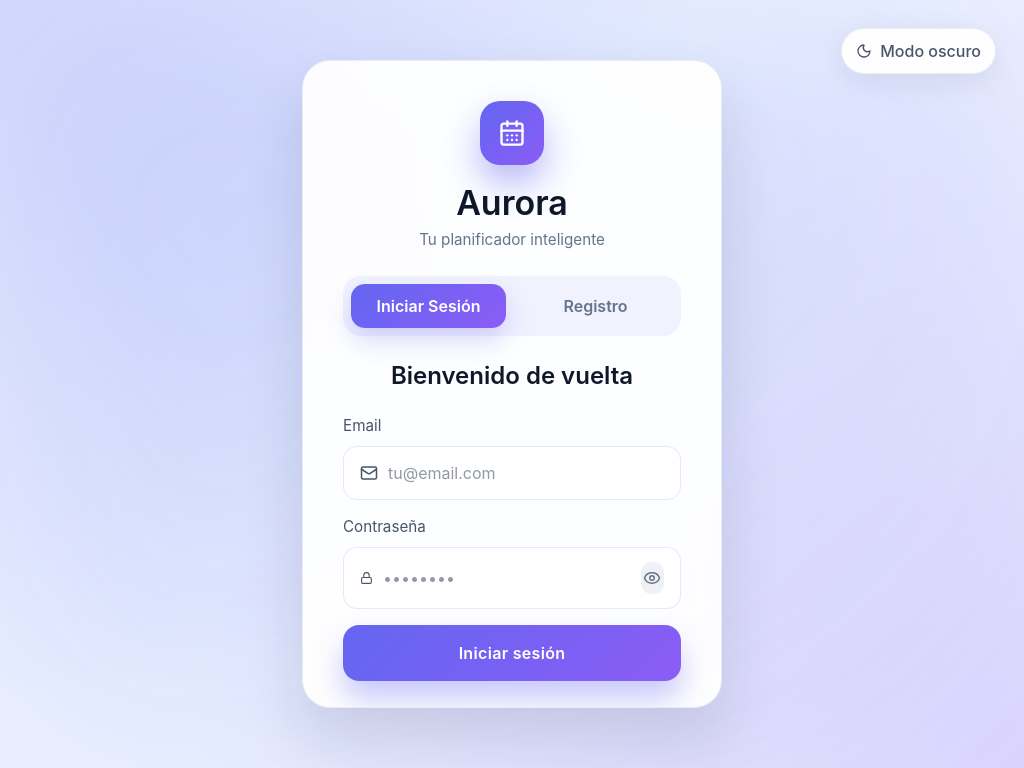
Scenario: AuthScreen › switches to register mode and validates passwords
Click the button "Registro" at [596, 306], box [518,284,673,328]
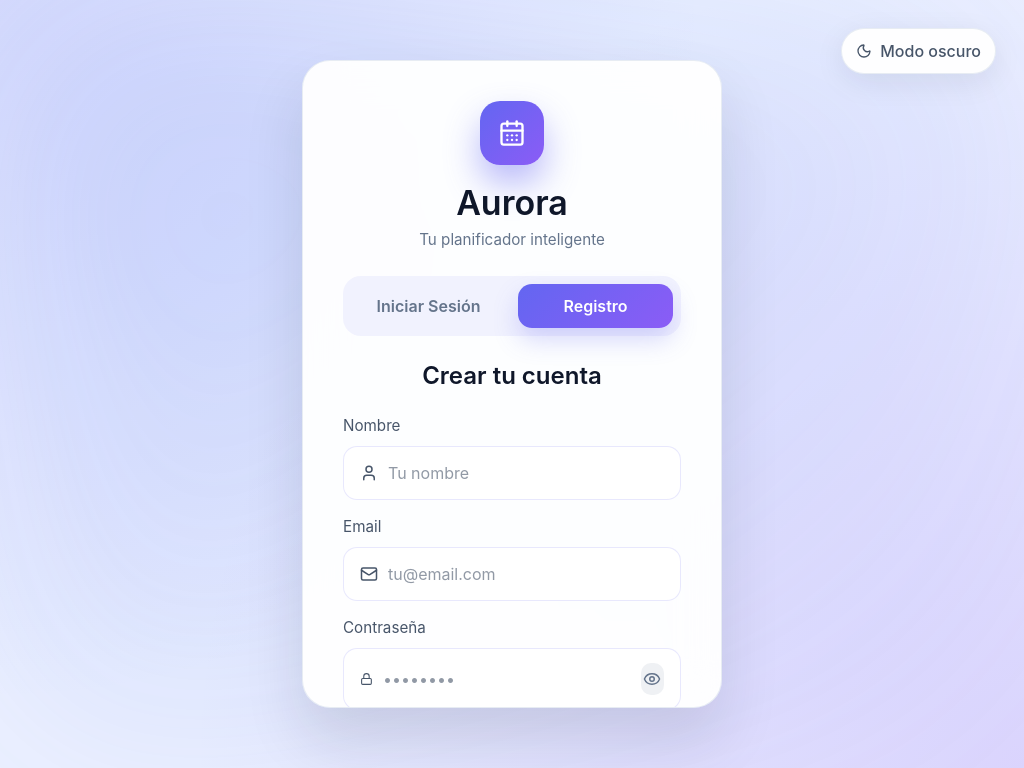
Type "Camila Tester" into the field labelled "Nombre" at [526, 473], box [388,461,664,485]
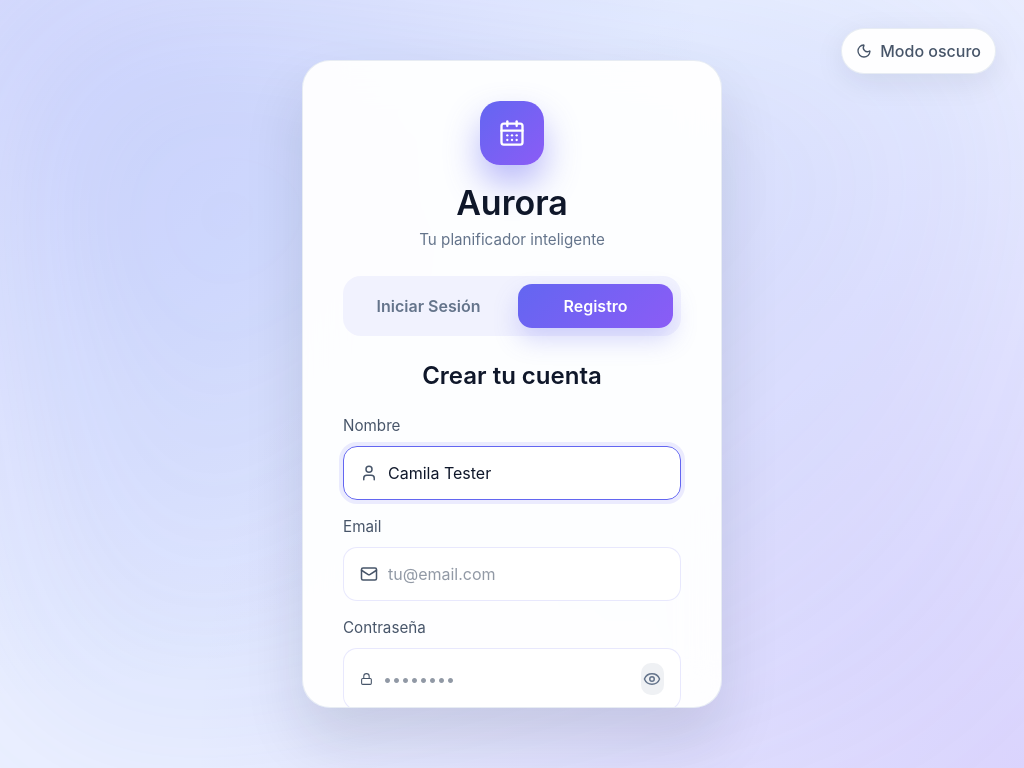
Type "user@example.com" into the field labelled "Email" at [526, 574], box [388,562,664,586]
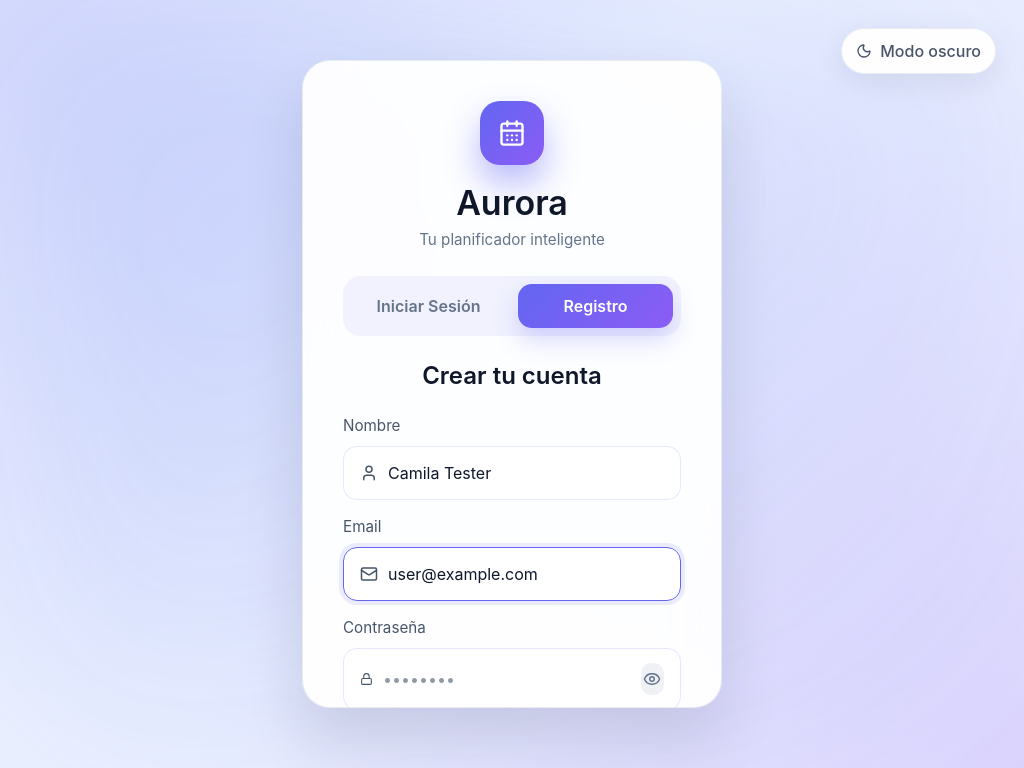
Type "12345678" into the password field labelled "Contraseña" at [507, 679], box [383,667,631,691]
(page scrolled)
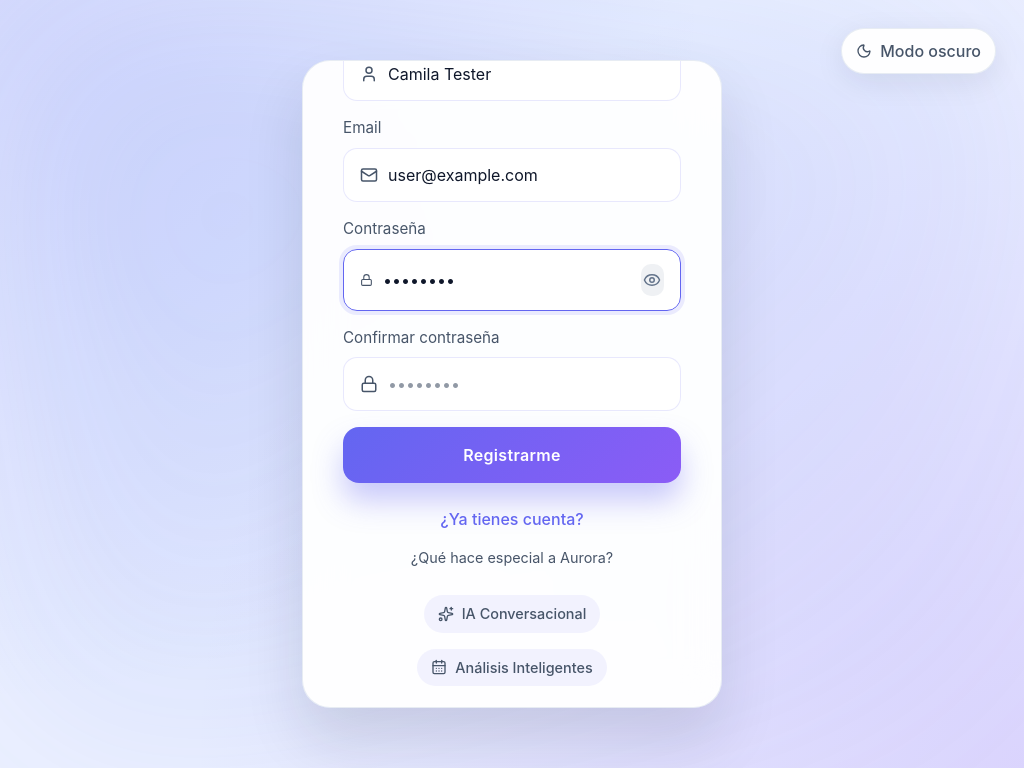
Type "87654321" into the password field labelled "Confirmar contraseña" at [526, 384], box [388,372,664,396]
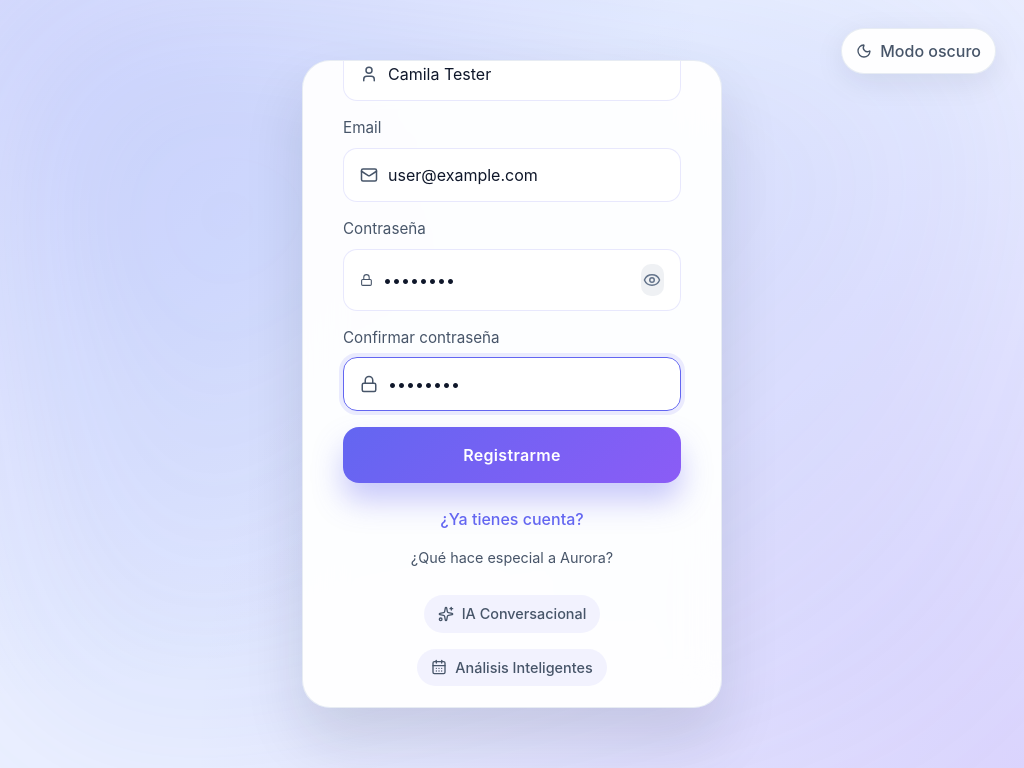
Click the button "Registrarme" at [512, 455], box [343,427,681,483]
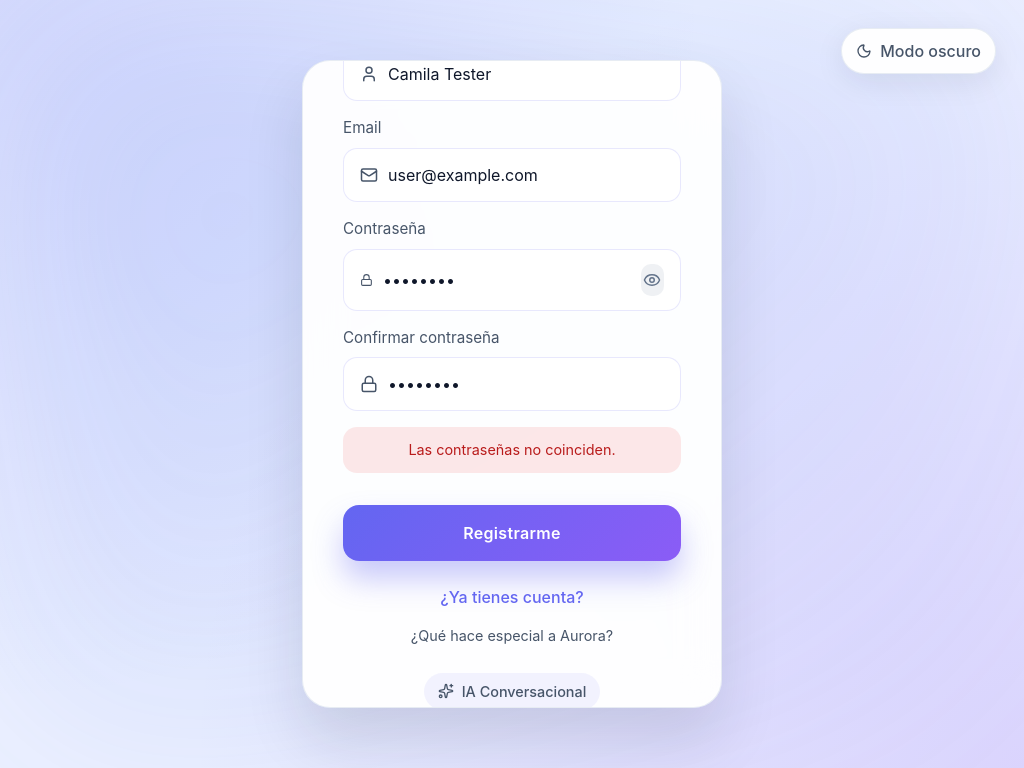
Expected: the text "Las contraseñas no coinciden." is shown, [343,427,681,473]
